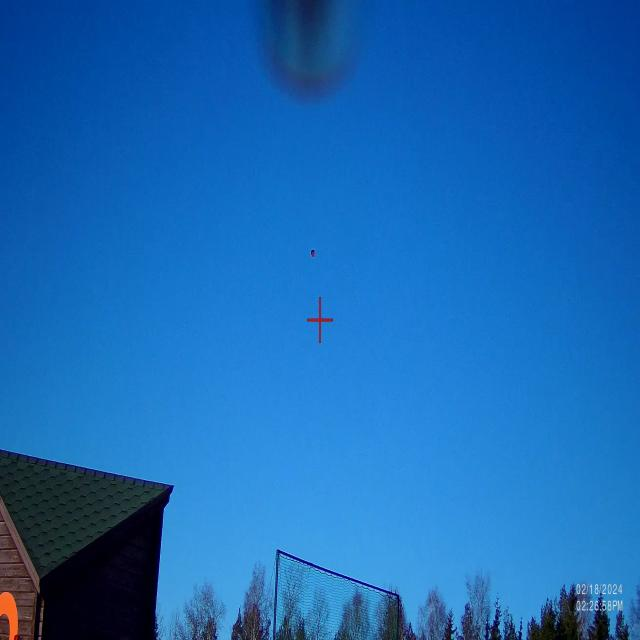entire: (306, 242, 322, 262)
